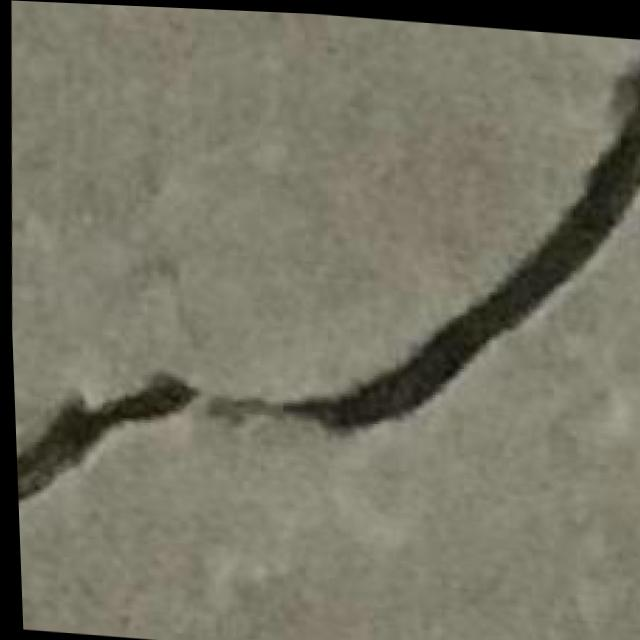Crack: (0, 3, 640, 640)
